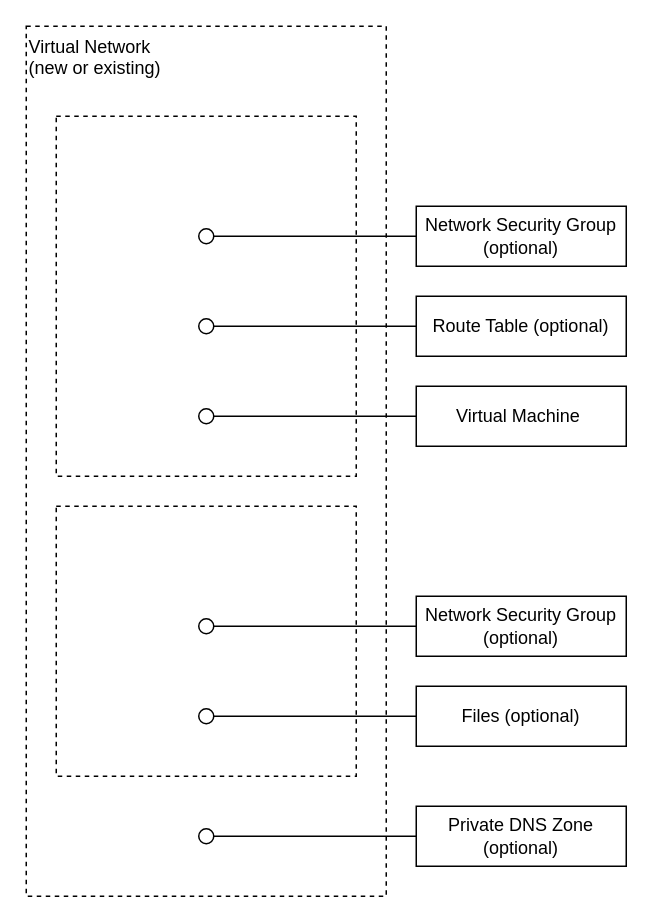
This 653x923 diagram has some shape labels left out. Each missing label, with the centre of its shape:
"Private Endpoint Subnet (optional; new or existing)" belongs at point 205,640.
"Virtual Machine Subnet (new or existing)" belongs at point 205,295.
